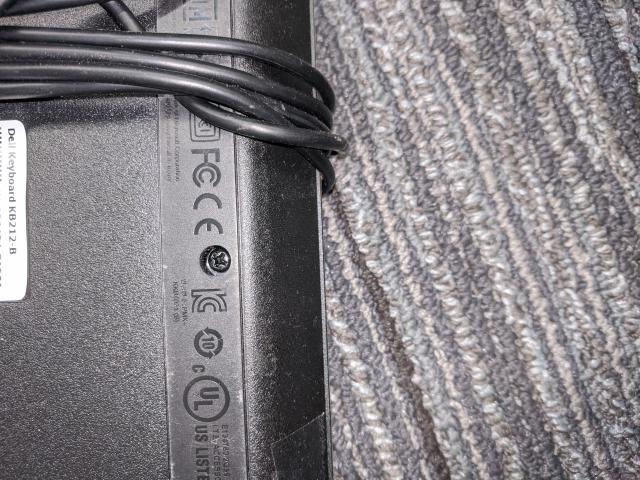CRS: (204, 246, 232, 276)
